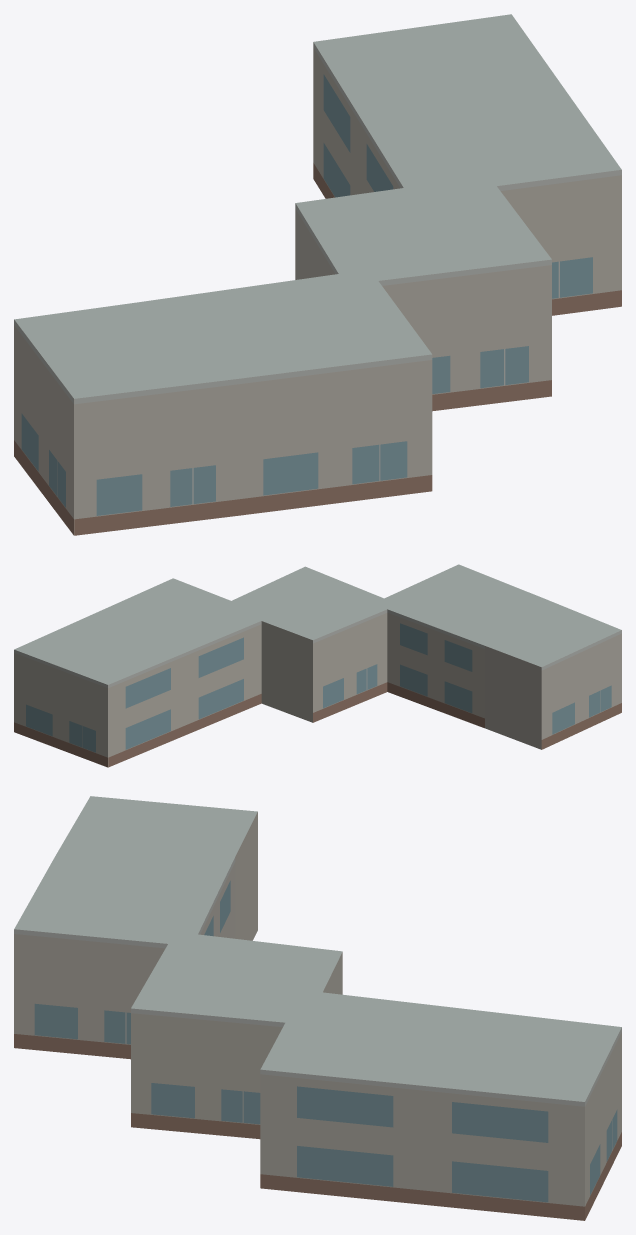
The model's file is survey-upis-32615601.glb.
3 renders of one model, top to bottom at view 1: azimuth 30°, elevation 25°; view 2: azimuth 150°, elevation 25°; view 3: azimuth 270°, elevation 25°, orthographic. The views are drawn at different scales.
Visible parts, largest first — view 1: survey-upis-32615601.tmp; view 2: survey-upis-32615601.tmp; view 3: survey-upis-32615601.tmp.
Boxes of the visible parts, <box> form: survey-upis-32615601.tmp: <box>14,14,621,535</box>; survey-upis-32615601.tmp: <box>14,564,621,767</box>; survey-upis-32615601.tmp: <box>14,796,621,1220</box>.
Size of the model in its own units: 33.7 by 6.1 by 28.29.
